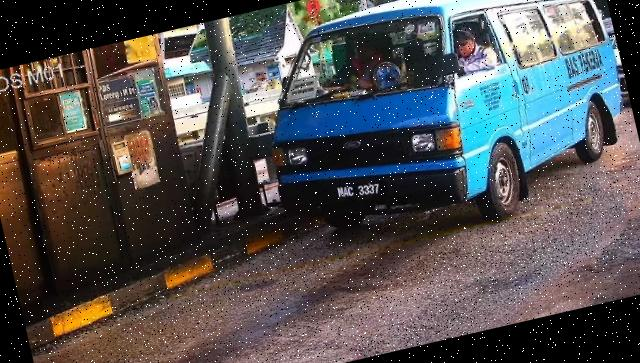License_Plate: (331, 175, 388, 210)
van: (243, 1, 640, 266)
